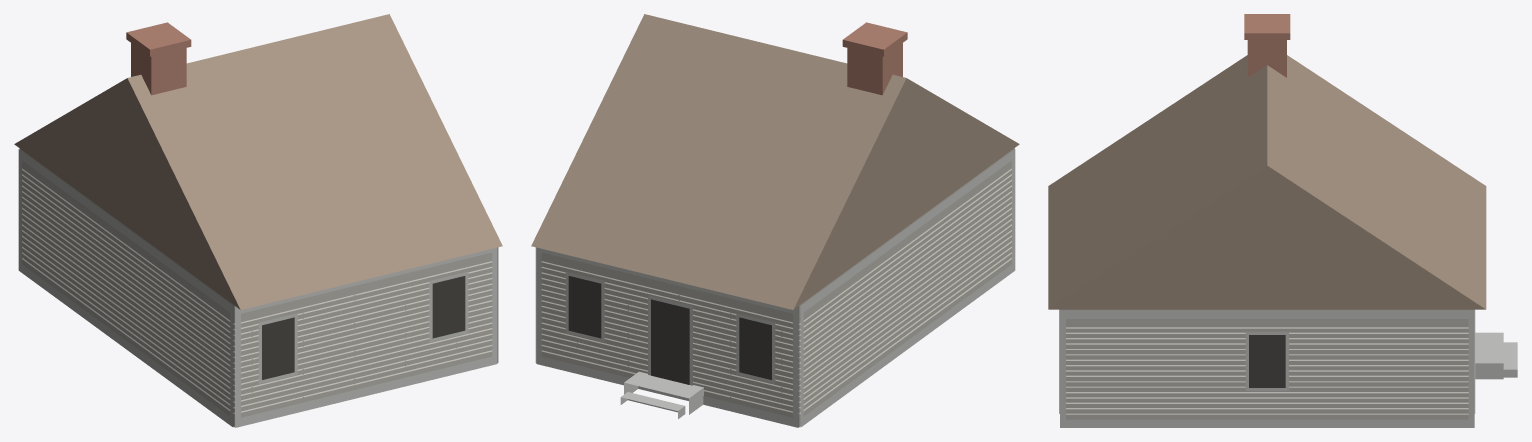
The model's file is recon_1835_south_d5_028__inferred_1835.glb.
The picture shows the model from 3 angles, left to right: view 1: azimuth 30°, elevation 25°; view 2: azimuth 150°, elevation 25°; view 3: azimuth 270°, elevation 25°; orthographic projection. The views are drawn at different scales.
Parts seen in each view (by area): view 1: recon_1835_south_d5_028__inferred_1835; view 2: recon_1835_south_d5_028__inferred_1835; view 3: recon_1835_south_d5_028__inferred_1835.
Part boxes in pixels (x1,y1,x2,y2): recon_1835_south_d5_028__inferred_1835: [14, 14, 502, 427]; recon_1835_south_d5_028__inferred_1835: [531, 14, 1019, 427]; recon_1835_south_d5_028__inferred_1835: [1048, 14, 1517, 427].
Bounding box in the file's own units: 6.33 × 6.95 × 10.03.
